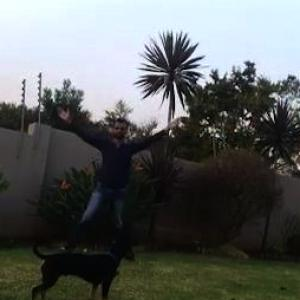takeoff: (57, 105, 185, 253)
